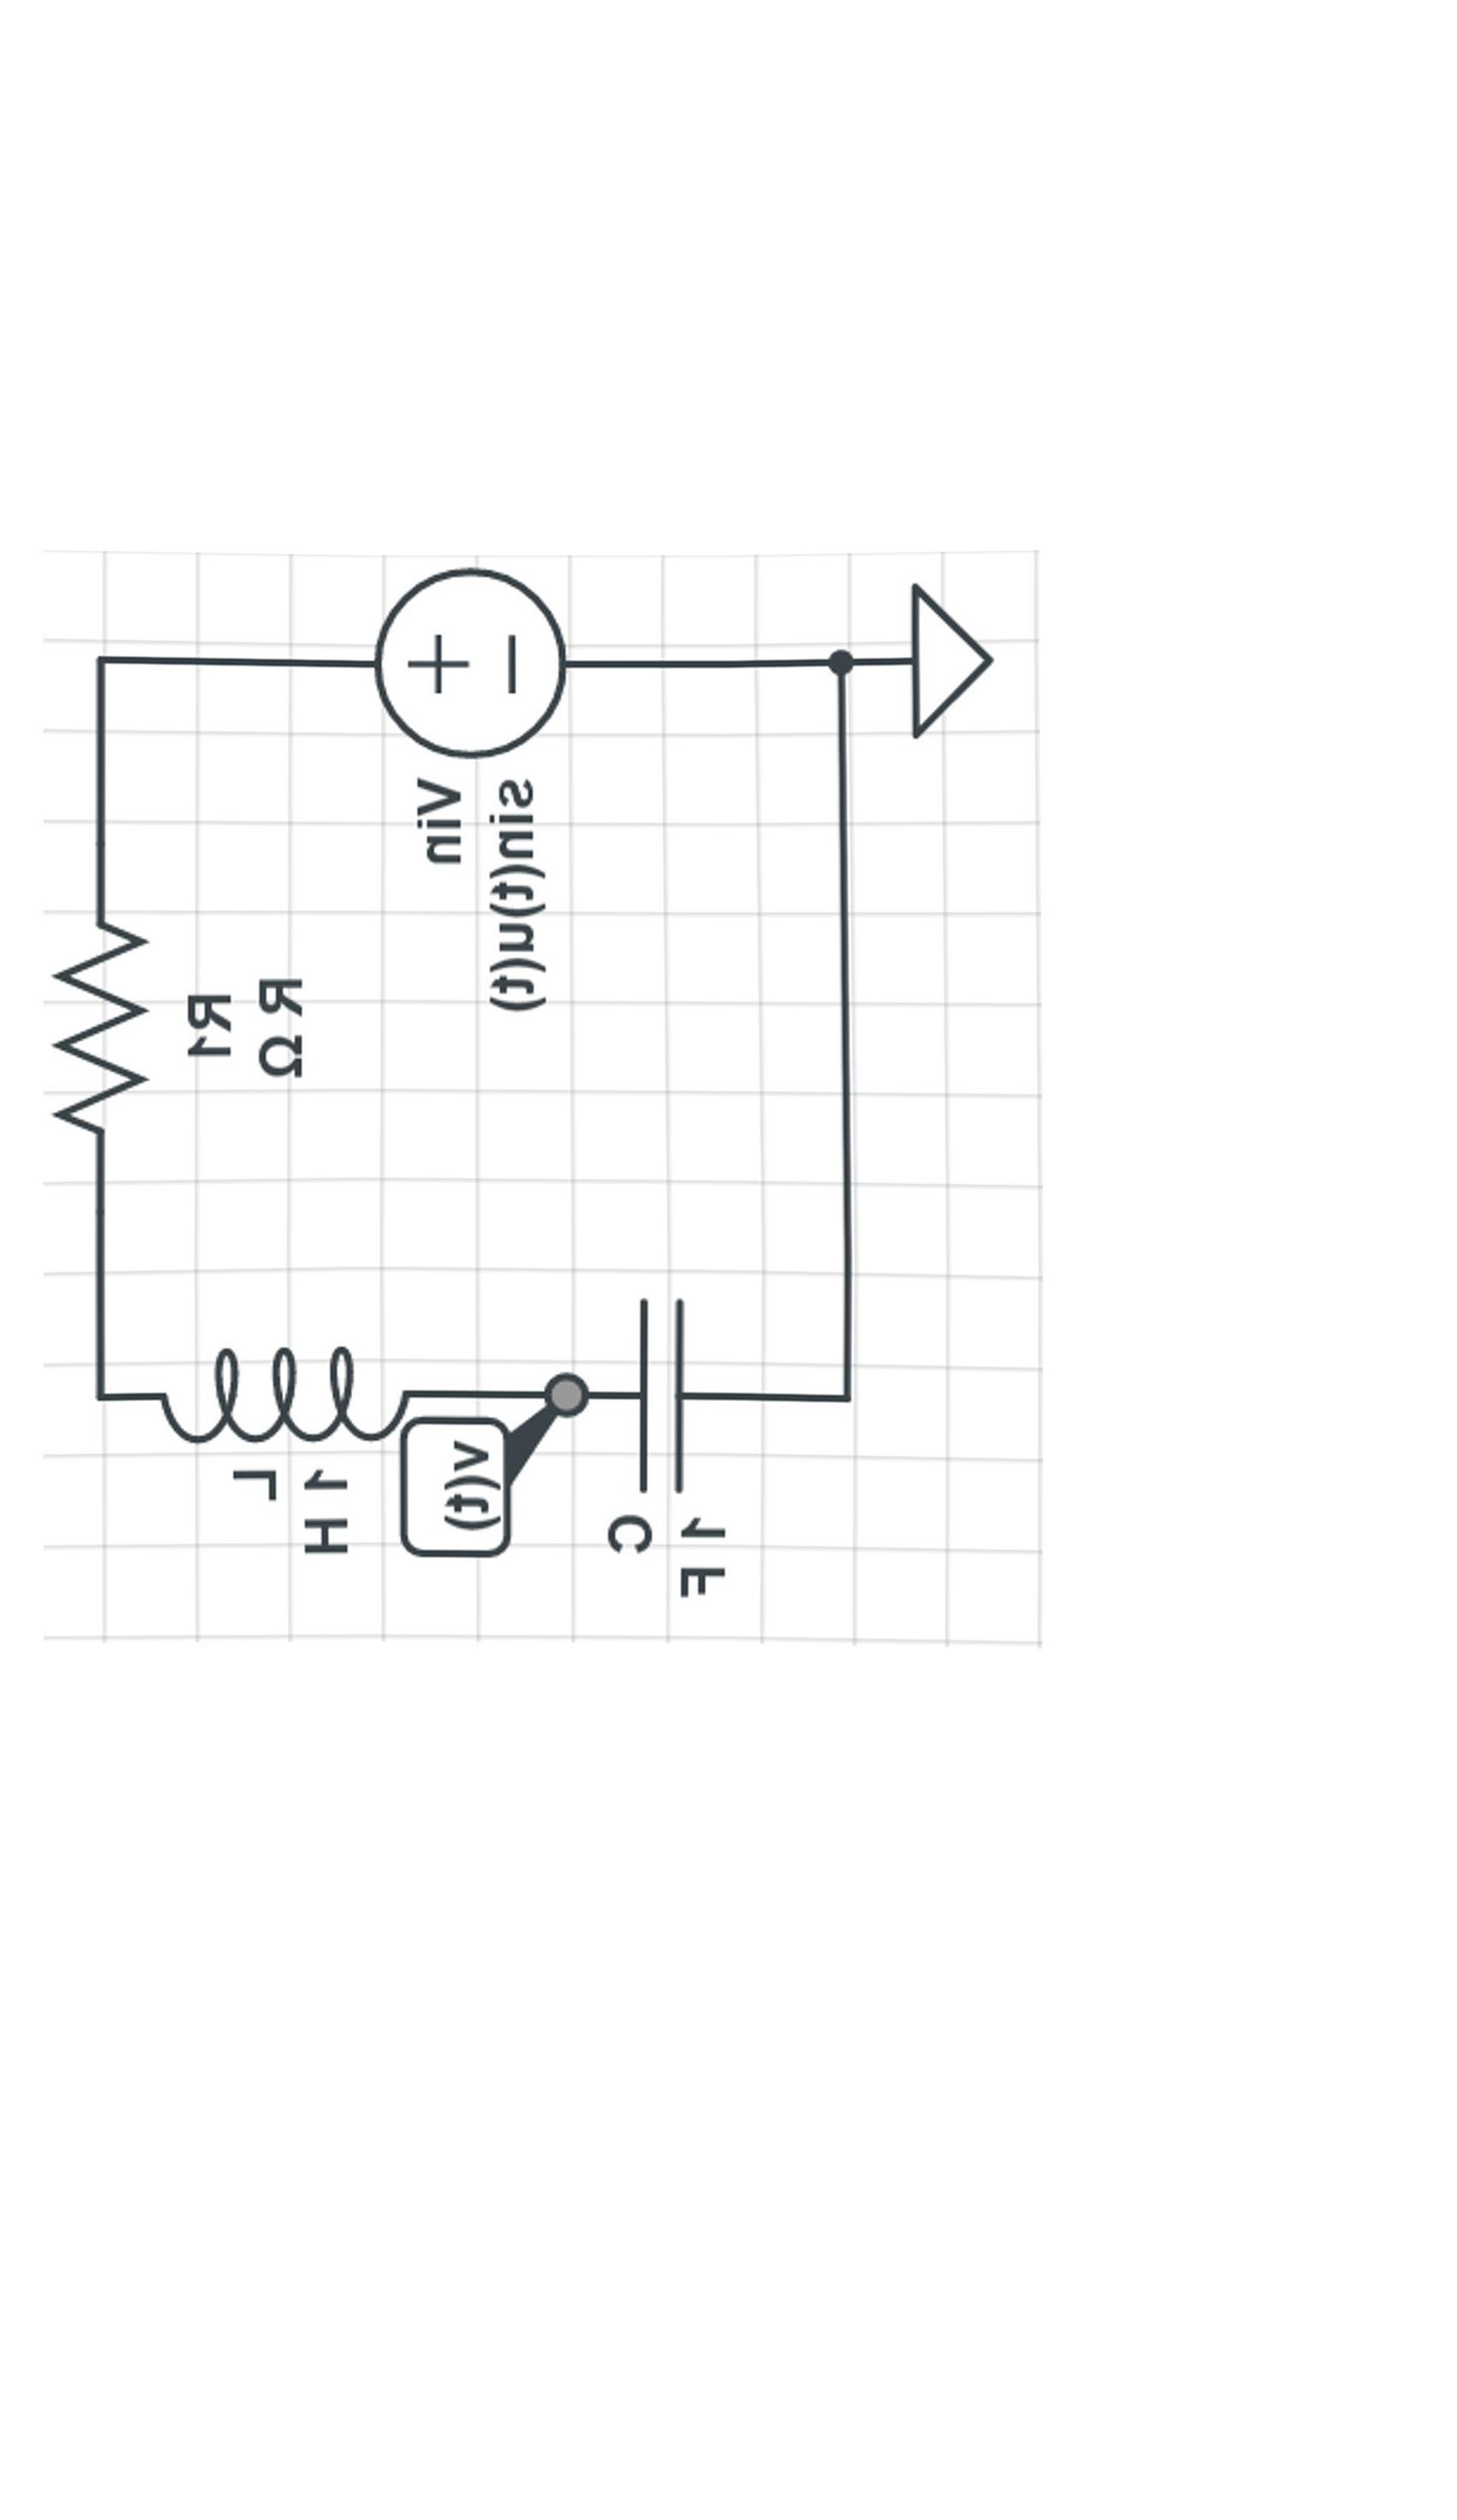Battery: (304, 506, 631, 778)
